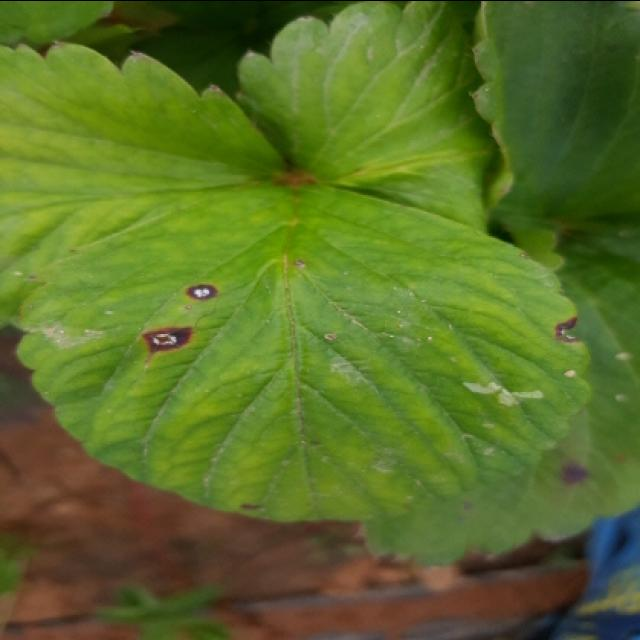Leaf Spot: (9, 181, 593, 523), (361, 226, 638, 565)
